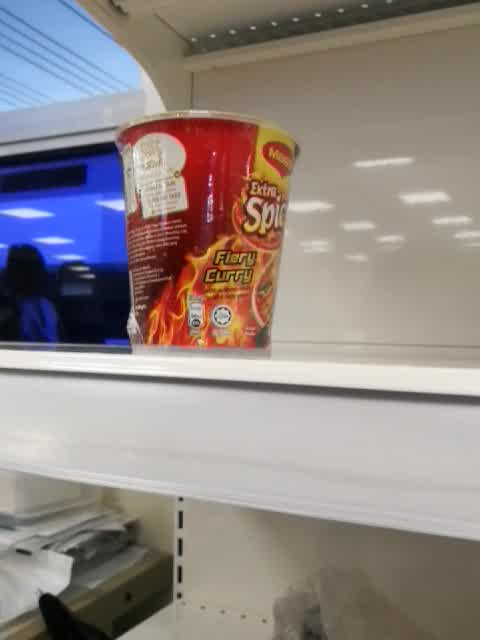maggi: (114, 108, 302, 358)
